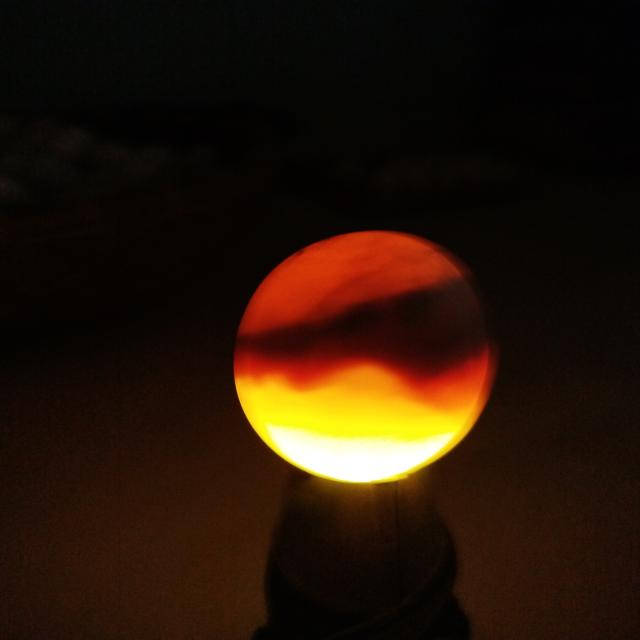Area Infectada: (234, 278, 493, 378)
